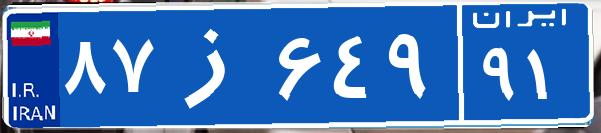1: (525, 38, 570, 115)
4: (330, 28, 385, 110)
6: (273, 28, 330, 110)
7: (110, 28, 158, 105)
8: (57, 26, 110, 107)
9: (385, 28, 445, 110), (475, 38, 525, 113)
ز: (158, 15, 273, 115)
